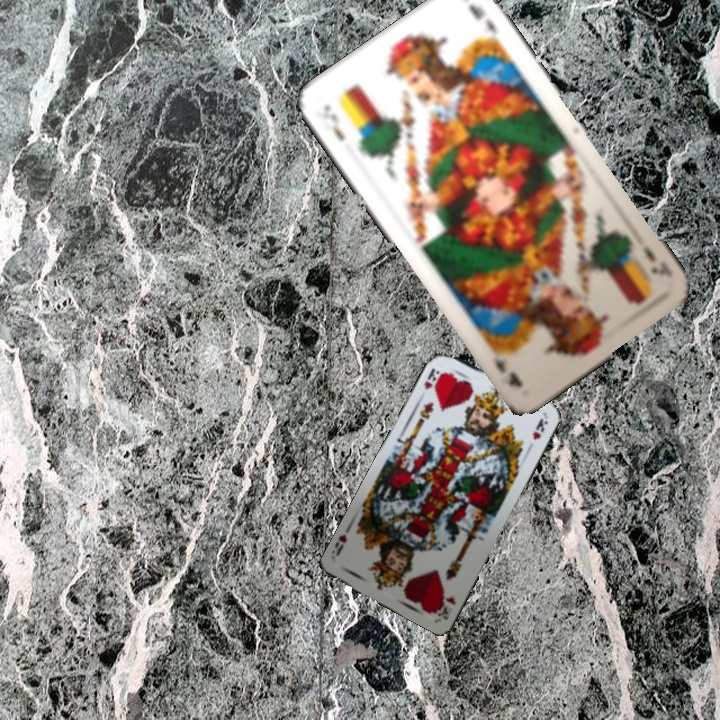EK: (638, 241, 673, 280), (319, 100, 348, 143)
HK: (433, 592, 458, 621), (420, 364, 442, 392)
